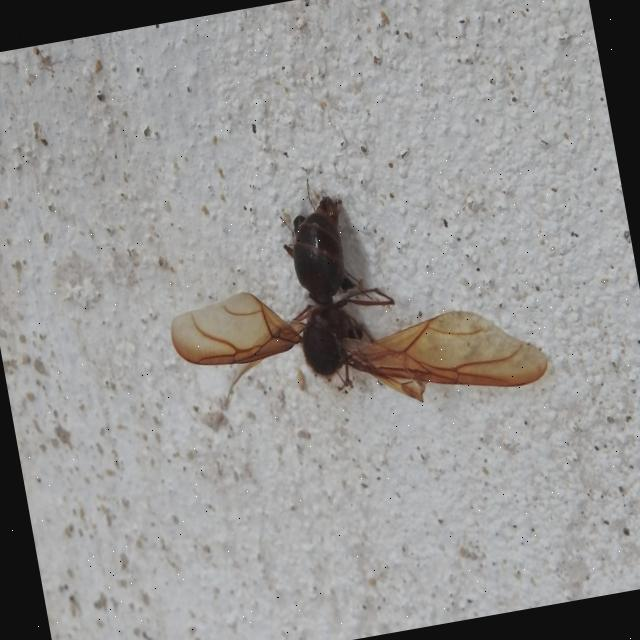Dead-Male-Alate: (148, 142, 550, 444)
